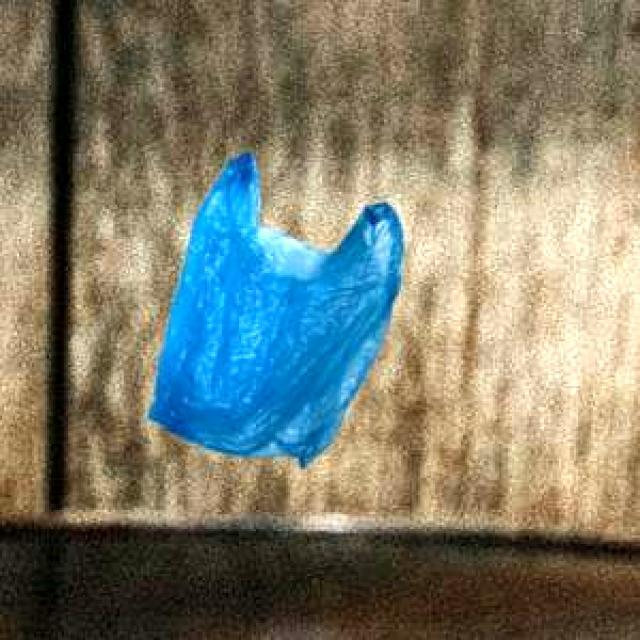Plastic_Bag: (144, 148, 400, 464)
